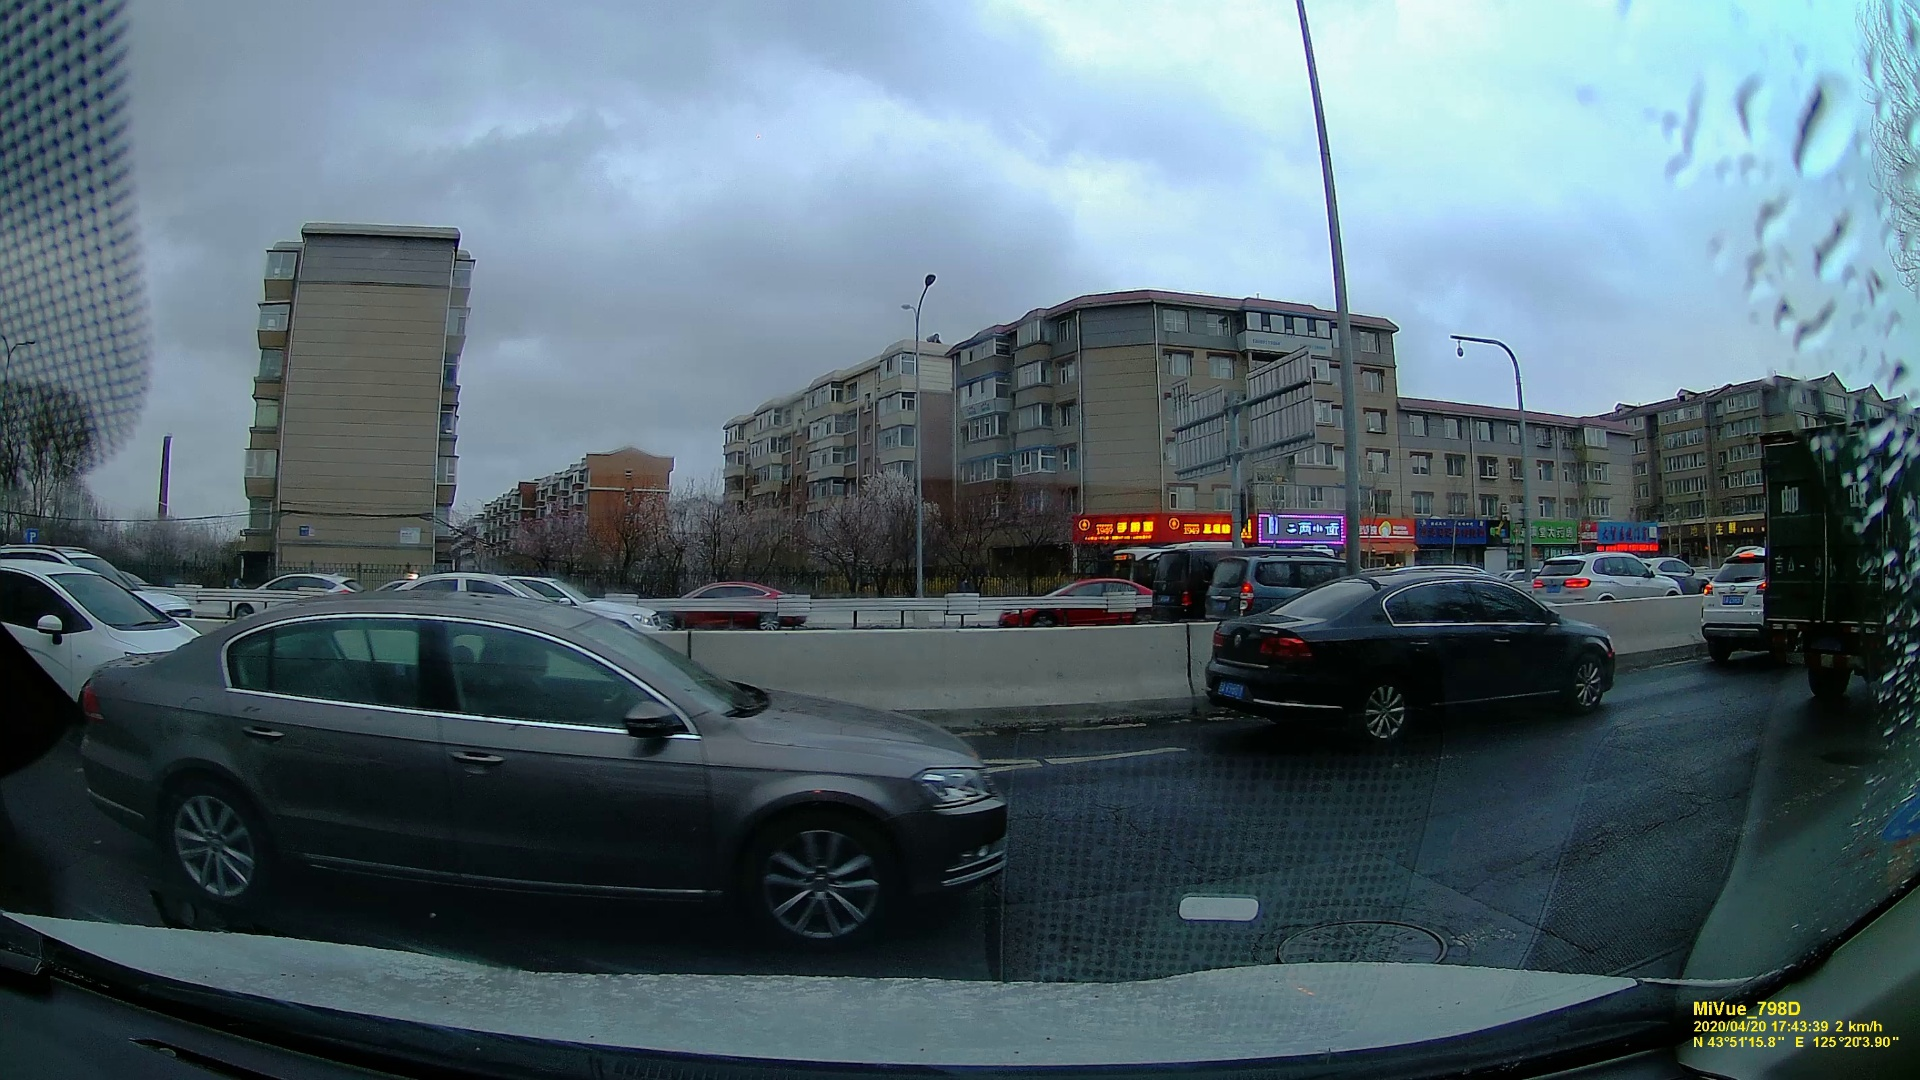minibus: (1153, 543, 1205, 620)
truck: (1750, 415, 1905, 703)
vehicle: (73, 607, 1006, 960), (1207, 564, 1615, 741), (1, 535, 202, 715), (646, 582, 812, 632), (1536, 549, 1681, 605), (1014, 576, 1153, 633), (1704, 553, 1778, 657)
